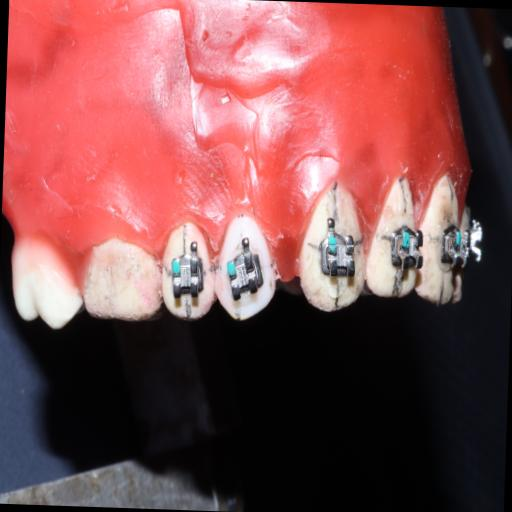correct_brace: (212, 205, 282, 332)
incorrect_brace: (223, 233, 266, 302), (316, 228, 354, 282)
